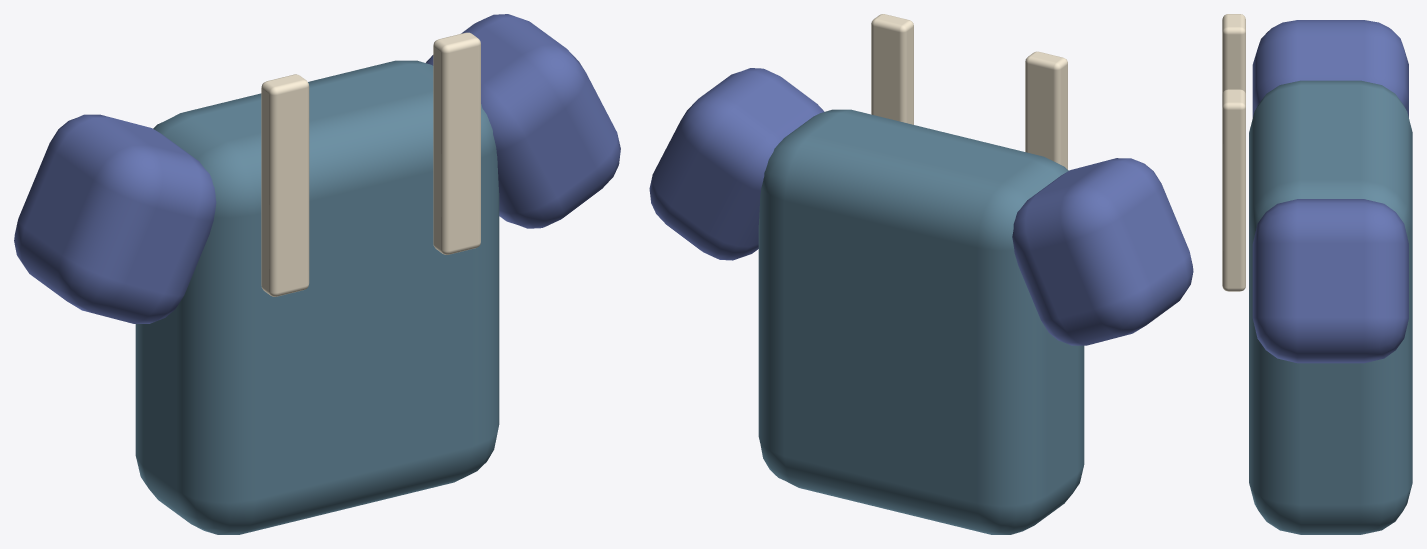
The model's file is objeto-overalls.glb.
3 renders of one model, left to right at view 1: azimuth 30°, elevation 25°; view 2: azimuth 150°, elevation 25°; view 3: azimuth 270°, elevation 25°, orthographic. The views are drawn at different scales.
Visible parts, largest first — view 1: equipment:overalls; view 2: equipment:overalls; view 3: equipment:overalls.
Boxes of the visible parts, x1,y1,x2,y2 form: equipment:overalls: [14, 14, 620, 534]; equipment:overalls: [649, 14, 1193, 534]; equipment:overalls: [1222, 14, 1412, 534].
Size of the model in its own units: 0.7775 by 0.63 by 0.256.
